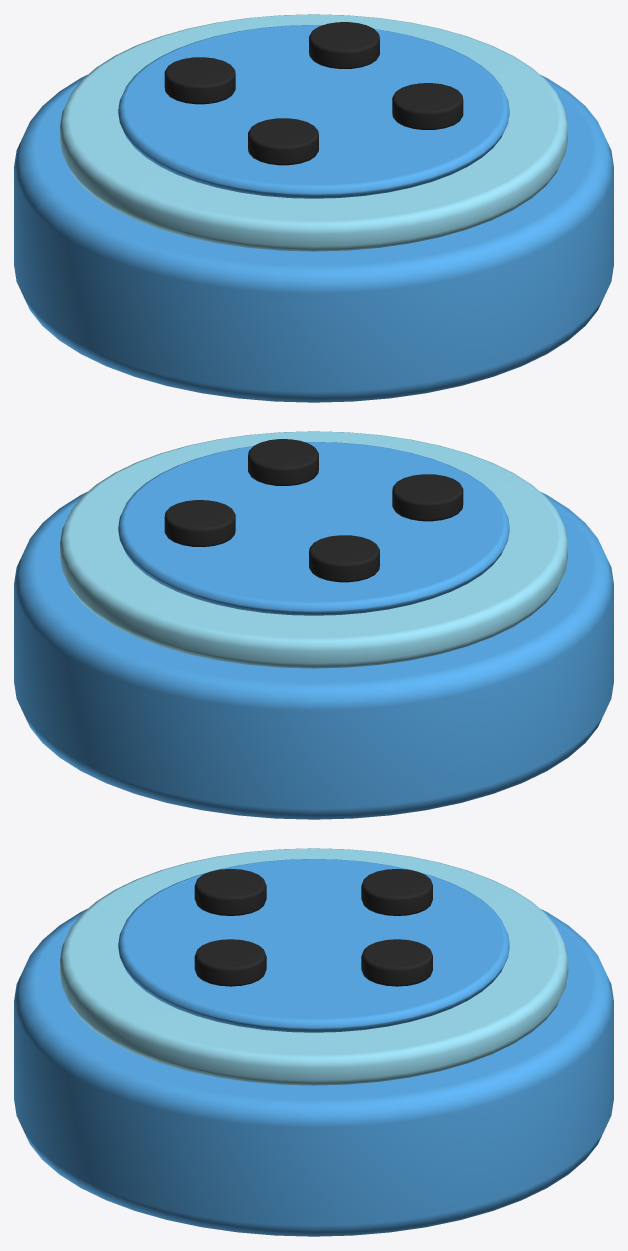
File: button.glb
The picture shows the model from 3 angles, top to bottom: view 1: azimuth 30°, elevation 25°; view 2: azimuth 150°, elevation 25°; view 3: azimuth 270°, elevation 25°; orthographic projection.
Visible parts, largest first — view 1: thick blue button, raised outer rim, recessed inner dish, dark button hole.001, dark button hole.002, dark button hole, dark button hole.003; view 2: thick blue button, raised outer rim, recessed inner dish, dark button hole, dark button hole.003, dark button hole.001, dark button hole.002; view 3: thick blue button, raised outer rim, recessed inner dish, dark button hole.002, dark button hole, dark button hole.003, dark button hole.001.
Part boxes in pixels (box(x1,y1,x2,y2)): thick blue button: box(14, 75, 613, 402); raised outer rim: box(60, 14, 567, 251); recessed inner dish: box(118, 25, 509, 198); dark button hole.001: box(164, 57, 235, 104); dark button hole.002: box(392, 83, 463, 129); dark button hole: box(248, 118, 318, 165); dark button hole.003: box(309, 22, 379, 68); thick blue button: box(14, 492, 613, 819); raised outer rim: box(60, 431, 567, 668); recessed inner dish: box(118, 442, 509, 615); dark button hole: box(392, 474, 463, 521); dark button hole.003: box(164, 500, 235, 546); dark button hole.001: box(309, 535, 379, 582); dark button hole.002: box(248, 439, 318, 485); thick blue button: box(14, 909, 613, 1236); raised outer rim: box(60, 848, 568, 1085); recessed inner dish: box(118, 859, 509, 1032); dark button hole.002: box(194, 939, 266, 986); dark button hole: box(194, 868, 266, 915); dark button hole.003: box(361, 939, 432, 986); dark button hole.001: box(361, 868, 432, 915).
Size of the model in its own units: 0.72 by 0.265 by 0.72.
